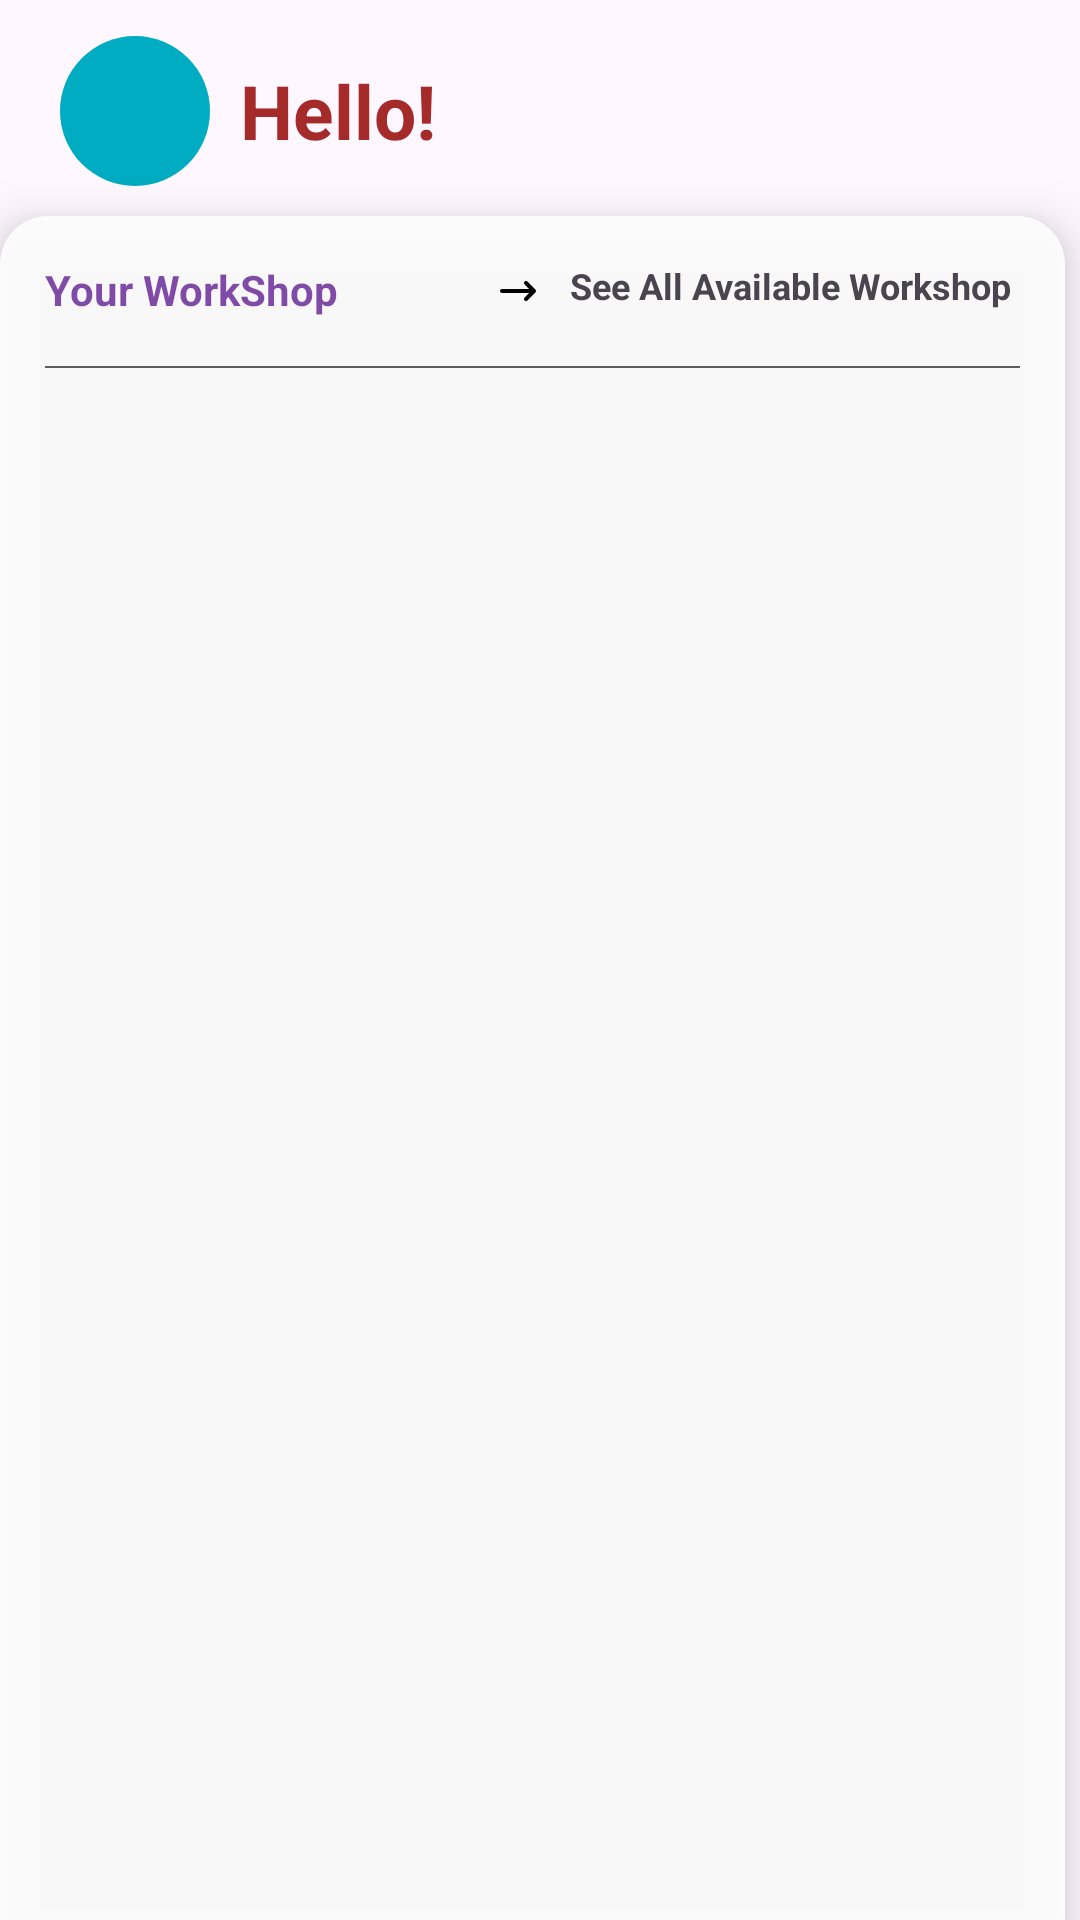

Icons on this 1080x1920 Android screen, each with the point to tap as [x,y]:
arrow narrow right: [518,291]
